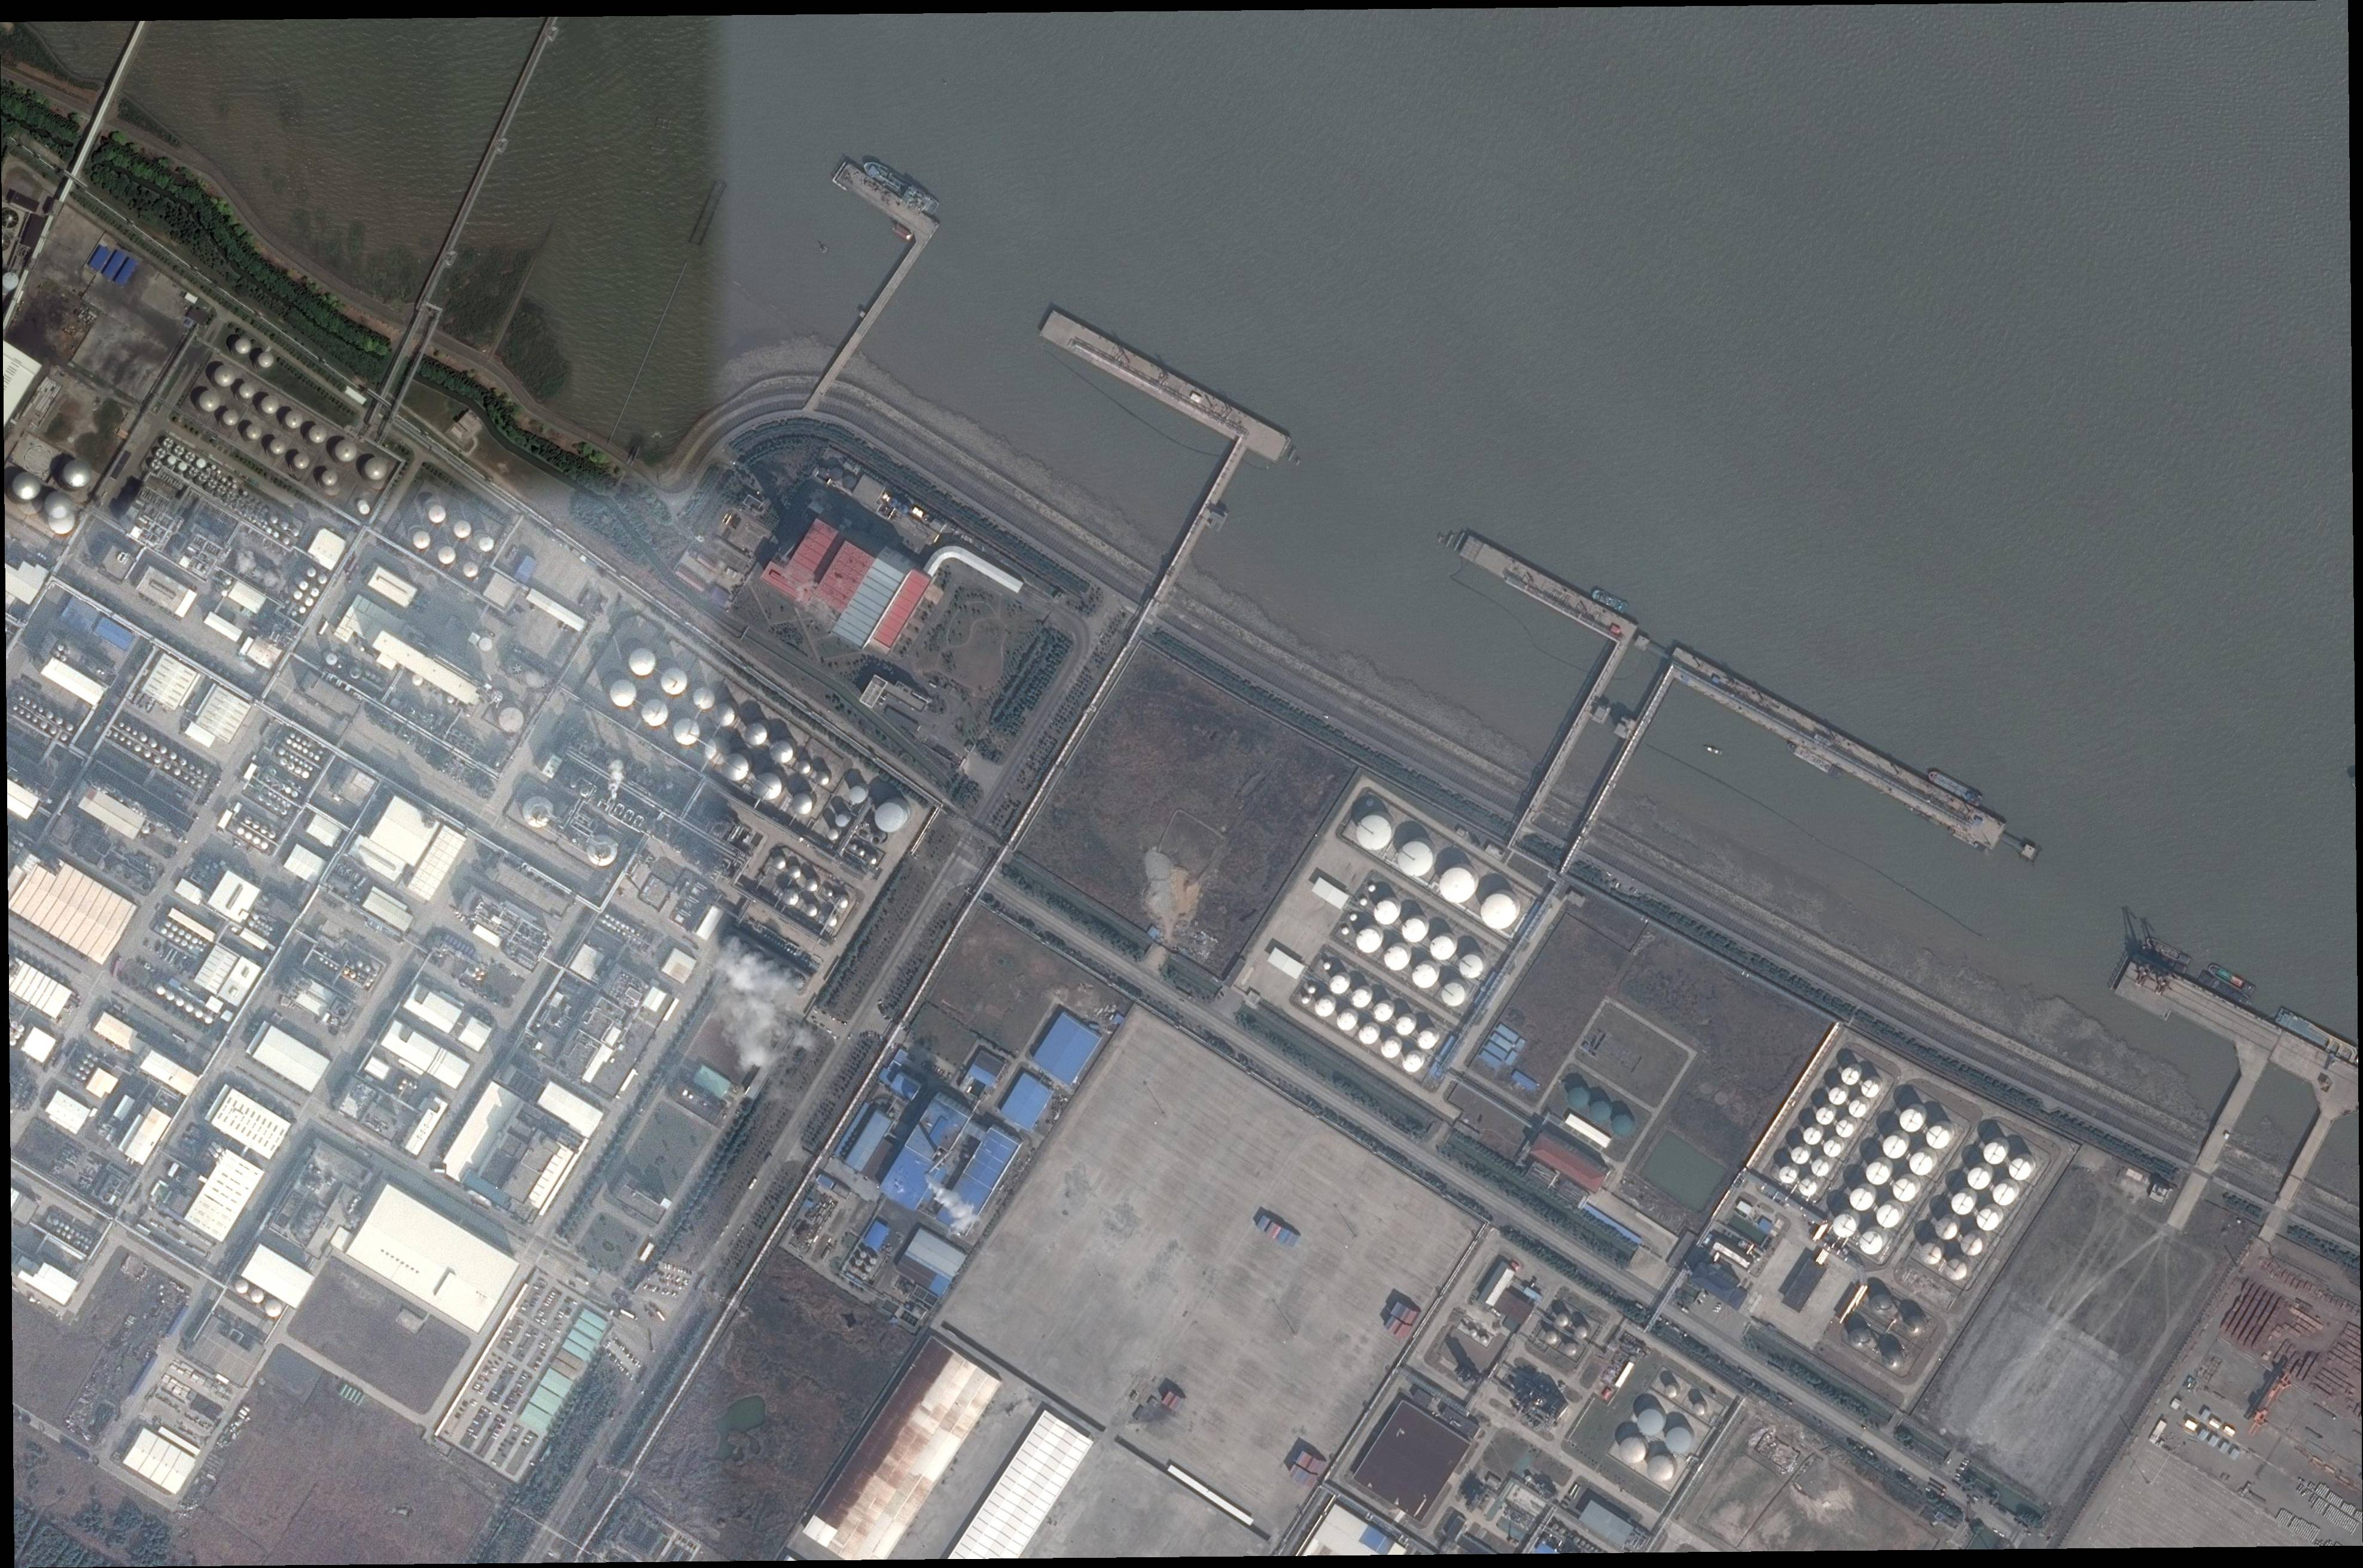harbor: (1675, 653, 2008, 851), (1040, 310, 1249, 440), (1460, 535, 1637, 647), (836, 163, 939, 243)
ship: (2274, 1006, 2359, 1065), (861, 156, 940, 218), (1926, 768, 1984, 808), (2197, 970, 2253, 1011), (1785, 741, 1843, 779), (2207, 961, 2256, 997), (2139, 946, 2187, 976), (2145, 936, 2193, 966), (1947, 827, 1989, 854), (1591, 587, 1629, 615), (1903, 803, 1941, 827), (1703, 745, 1723, 756)
storage tank: (1356, 815, 1393, 851), (1439, 867, 1475, 904), (1481, 894, 1517, 930), (1397, 842, 1433, 876), (587, 835, 619, 867), (523, 796, 554, 827), (875, 803, 905, 832), (63, 459, 92, 488), (13, 472, 42, 500), (753, 772, 782, 800), (45, 491, 74, 519), (629, 648, 656, 676), (610, 680, 637, 707), (673, 718, 701, 745), (722, 754, 749, 782), (1619, 1436, 1646, 1463), (661, 668, 688, 695), (642, 700, 668, 726), (1637, 1409, 1664, 1435), (1666, 1427, 1692, 1453), (1648, 1456, 1673, 1482), (1356, 928, 1381, 954), (499, 707, 524, 732), (1374, 900, 1398, 925), (1430, 936, 1455, 961), (1384, 946, 1408, 971), (1412, 964, 1437, 988), (1403, 918, 1426, 943), (1441, 983, 1465, 1007), (1460, 955, 1484, 979), (1899, 1109, 1923, 1133), (1909, 1152, 1933, 1176), (1926, 1126, 1950, 1150), (1850, 1188, 1874, 1211), (744, 723, 768, 747), (1833, 1214, 1856, 1238), (1877, 1205, 1900, 1228), (1893, 1179, 1916, 1202), (1883, 1136, 1906, 1159), (1859, 1232, 1883, 1255), (336, 439, 358, 462), (1951, 1192, 1974, 1215), (1968, 1167, 1991, 1190), (1866, 1162, 1889, 1185), (771, 740, 793, 763), (2009, 1159, 2032, 1182), (1977, 1208, 1999, 1232), (1993, 1183, 2015, 1206), (1984, 1143, 2006, 1165), (1920, 1243, 1942, 1265), (1936, 1218, 1958, 1240), (1960, 1235, 1983, 1256), (1870, 1294, 1892, 1317), (1882, 1349, 1904, 1371), (1945, 1259, 1967, 1281), (693, 687, 715, 709), (715, 703, 735, 727), (215, 364, 236, 386), (200, 390, 221, 412), (366, 458, 388, 479), (1849, 1329, 1869, 1350), (1568, 1088, 1589, 1109), (1905, 1316, 1925, 1337), (793, 794, 813, 815), (1591, 1101, 1611, 1122), (1613, 1115, 1633, 1135), (1329, 975, 1348, 994), (1352, 988, 1371, 1009), (1381, 1039, 1400, 1059), (1417, 1030, 1436, 1050), (285, 410, 304, 429), (1828, 1086, 1847, 1105), (438, 545, 456, 564), (1403, 1054, 1421, 1073), (310, 424, 328, 443), (1338, 1012, 1356, 1031), (1374, 1003, 1391, 1022), (1316, 998, 1333, 1018), (261, 395, 279, 414), (1359, 1026, 1377, 1045), (1396, 1017, 1414, 1036), (1849, 1100, 1867, 1119), (1799, 1179, 1818, 1196), (1811, 1158, 1829, 1177), (1823, 1140, 1842, 1158), (1816, 1107, 1834, 1125), (413, 531, 431, 549), (1842, 1067, 1859, 1086), (1780, 1166, 1798, 1184), (1804, 1127, 1822, 1145), (1837, 1120, 1855, 1138), (455, 520, 472, 538), (1792, 1146, 1809, 1164), (1862, 1080, 1879, 1098), (429, 505, 446, 523), (2, 272, 19, 290), (294, 452, 311, 470), (782, 889, 799, 906), (849, 785, 866, 803), (266, 1299, 282, 1317), (236, 337, 252, 354), (258, 351, 275, 369), (246, 423, 263, 440), (223, 409, 239, 426), (322, 469, 339, 486), (463, 561, 479, 578), (240, 382, 255, 399), (270, 437, 286, 454), (479, 537, 495, 551), (235, 1278, 249, 1294), (1574, 1326, 1588, 1340), (479, 637, 493, 651), (843, 475, 857, 489), (772, 856, 786, 870), (815, 772, 829, 785), (251, 1289, 264, 1303), (830, 467, 843, 480), (797, 761, 811, 775), (1556, 1313, 1569, 1328), (1545, 1331, 1558, 1344), (1692, 1403, 1706, 1416), (1664, 1385, 1677, 1398), (835, 814, 848, 827), (1564, 1343, 1577, 1357), (349, 667, 363, 680), (805, 879, 818, 892), (788, 866, 801, 879), (805, 903, 817, 917), (326, 653, 339, 665), (827, 829, 839, 841), (837, 896, 848, 909), (412, 674, 424, 686), (826, 915, 838, 927), (151, 459, 162, 470), (163, 437, 174, 448), (360, 505, 370, 515), (900, 504, 909, 515), (156, 448, 166, 458), (318, 574, 328, 584), (307, 567, 316, 578), (196, 458, 206, 468), (175, 446, 185, 455), (208, 479, 218, 489), (871, 836, 881, 846), (167, 456, 177, 465), (178, 462, 188, 471), (294, 590, 303, 599), (310, 588, 320, 597), (889, 498, 898, 507), (186, 452, 195, 461), (189, 468, 198, 477), (300, 581, 309, 590), (157, 986, 165, 995), (227, 492, 236, 500), (237, 498, 245, 507), (869, 856, 877, 865), (218, 486, 226, 495), (166, 992, 175, 1000), (199, 474, 207, 482), (306, 598, 314, 607), (176, 998, 184, 1007), (253, 821, 261, 830), (186, 1004, 194, 1012), (205, 1016, 213, 1024), (237, 827, 245, 835), (244, 817, 252, 824), (261, 826, 269, 834), (261, 842, 269, 850), (282, 522, 290, 530), (292, 528, 300, 537), (49, 727, 57, 735), (150, 740, 157, 748), (144, 750, 152, 758), (160, 746, 168, 754), (1480, 1336, 1488, 1344), (860, 1272, 868, 1281), (196, 1010, 203, 1018), (271, 516, 279, 523), (154, 756, 162, 764), (173, 768, 181, 776), (46, 711, 54, 719), (1470, 1330, 1478, 1338), (1368, 885, 1376, 893), (1350, 914, 1357, 921), (1323, 963, 1331, 970), (826, 889, 834, 897), (857, 848, 865, 856), (288, 762, 295, 771), (280, 757, 287, 766), (283, 537, 290, 545), (302, 772, 309, 779), (40, 721, 48, 729), (60, 734, 68, 741), (140, 734, 147, 742), (135, 744, 142, 752), (170, 752, 177, 760), (56, 717, 63, 724), (1540, 1538, 1547, 1546), (1342, 927, 1349, 935), (1360, 899, 1368, 906), (1308, 987, 1316, 994), (1302, 997, 1309, 1004), (254, 836, 260, 845), (10, 1022, 17, 1029), (17, 1025, 25, 1033), (10, 1039, 17, 1046), (258, 794, 266, 802), (291, 791, 299, 798), (164, 762, 171, 769), (180, 759, 187, 766), (300, 607, 307, 614), (66, 724, 74, 731), (447, 696, 454, 704), (860, 1251, 867, 1258), (855, 1259, 863, 1266), (296, 767, 302, 775), (870, 1258, 877, 1265), (865, 1265, 872, 1272), (161, 928, 168, 935), (182, 940, 188, 947), (14, 1033, 21, 1039), (279, 748, 285, 756), (246, 833, 252, 840), (266, 799, 273, 806), (273, 804, 281, 811), (54, 651, 60, 659), (349, 972, 357, 978), (357, 961, 364, 967), (365, 966, 371, 973), (851, 1267, 858, 1274), (851, 844, 857, 851), (172, 925, 178, 931), (168, 932, 174, 939), (269, 832, 276, 839), (281, 809, 288, 815), (278, 784, 285, 790), (285, 787, 291, 794), (221, 590, 228, 597), (1560, 1529, 1566, 1535), (1525, 1475, 1531, 1482), (273, 531, 279, 538), (60, 655, 66, 662), (1574, 1536, 1580, 1543), (165, 921, 171, 928), (192, 937, 198, 944), (249, 921, 255, 927), (253, 914, 259, 921), (267, 528, 273, 534), (226, 579, 232, 585), (58, 645, 64, 651), (175, 936, 181, 942), (185, 934, 191, 940), (53, 1219, 59, 1225), (132, 730, 138, 736), (1553, 1524, 1559, 1530), (343, 969, 349, 975), (315, 755, 320, 762), (26, 713, 31, 719), (1580, 1540, 1585, 1546), (179, 929, 184, 935), (86, 1069, 91, 1075), (197, 783, 203, 789), (114, 732, 119, 738), (127, 740, 132, 746), (190, 765, 195, 771), (20, 709, 25, 715), (13, 705, 19, 711), (38, 707, 44, 713), (366, 671, 371, 677), (66, 1234, 72, 1240), (89, 1062, 95, 1068), (82, 1075, 87, 1080), (287, 739, 292, 744), (297, 745, 303, 751), (296, 737, 302, 742), (196, 769, 202, 775), (32, 717, 38, 722), (292, 611, 297, 617), (371, 674, 376, 680), (203, 773, 208, 779), (184, 775, 189, 781), (188, 945, 193, 951), (62, 1231, 66, 1237), (93, 1057, 98, 1062), (76, 1072, 81, 1077), (64, 1226, 69, 1231), (293, 743, 297, 748), (303, 748, 308, 754), (309, 752, 313, 757), (290, 733, 295, 739), (302, 740, 307, 745), (191, 779, 196, 784), (212, 464, 217, 470), (223, 477, 227, 483), (243, 491, 248, 496), (249, 495, 254, 500), (264, 508, 269, 513), (120, 722, 124, 727), (120, 737, 126, 742), (19, 696, 24, 701), (26, 700, 31, 705), (360, 647, 365, 652), (376, 677, 381, 683), (474, 968, 480, 973), (471, 973, 476, 979), (350, 964, 355, 969), (616, 920, 620, 925), (75, 1232, 80, 1237), (84, 1245, 89, 1250), (70, 1229, 75, 1234), (87, 1054, 92, 1058), (80, 1067, 84, 1071), (59, 1222, 64, 1227), (309, 766, 314, 771), (398, 1085, 403, 1090), (407, 1082, 412, 1086), (126, 727, 131, 732), (32, 704, 37, 709), (1586, 1543, 1591, 1548), (605, 914, 610, 919), (199, 940, 203, 945), (319, 750, 324, 755), (480, 972, 485, 977), (602, 920, 606, 925), (610, 917, 614, 922), (57, 1229, 61, 1234), (84, 1060, 88, 1065), (290, 754, 294, 759), (307, 744, 312, 748), (338, 664, 342, 669), (282, 800, 287, 805), (207, 468, 211, 473), (212, 471, 217, 476), (218, 470, 222, 474), (233, 484, 237, 489), (413, 1085, 418, 1089), (357, 972, 361, 977), (367, 983, 371, 988), (477, 978, 482, 982), (607, 922, 611, 927), (613, 926, 617, 931), (621, 924, 625, 928), (631, 929, 635, 934), (265, 925, 269, 929), (294, 758, 299, 762), (304, 763, 309, 768), (268, 792, 272, 796), (273, 795, 277, 799), (278, 797, 282, 802), (1594, 1549, 1598, 1554), (319, 958, 324, 962), (324, 961, 328, 965), (334, 966, 338, 970), (370, 979, 374, 983), (373, 974, 377, 978), (622, 932, 626, 936), (633, 937, 637, 942), (288, 803, 291, 808), (217, 476, 222, 479), (626, 926, 629, 931), (80, 1236, 84, 1240), (85, 1238, 89, 1242), (261, 922, 264, 927), (300, 762, 303, 766), (228, 482, 232, 486), (255, 499, 259, 503), (403, 1081, 407, 1085), (1591, 1546, 1595, 1551), (324, 952, 328, 955), (328, 955, 333, 958), (77, 1241, 81, 1245), (257, 921, 261, 924), (234, 479, 237, 482), (330, 964, 333, 967), (637, 933, 640, 937), (270, 927, 273, 931), (617, 929, 620, 933), (255, 925, 258, 929), (628, 935, 631, 939)
